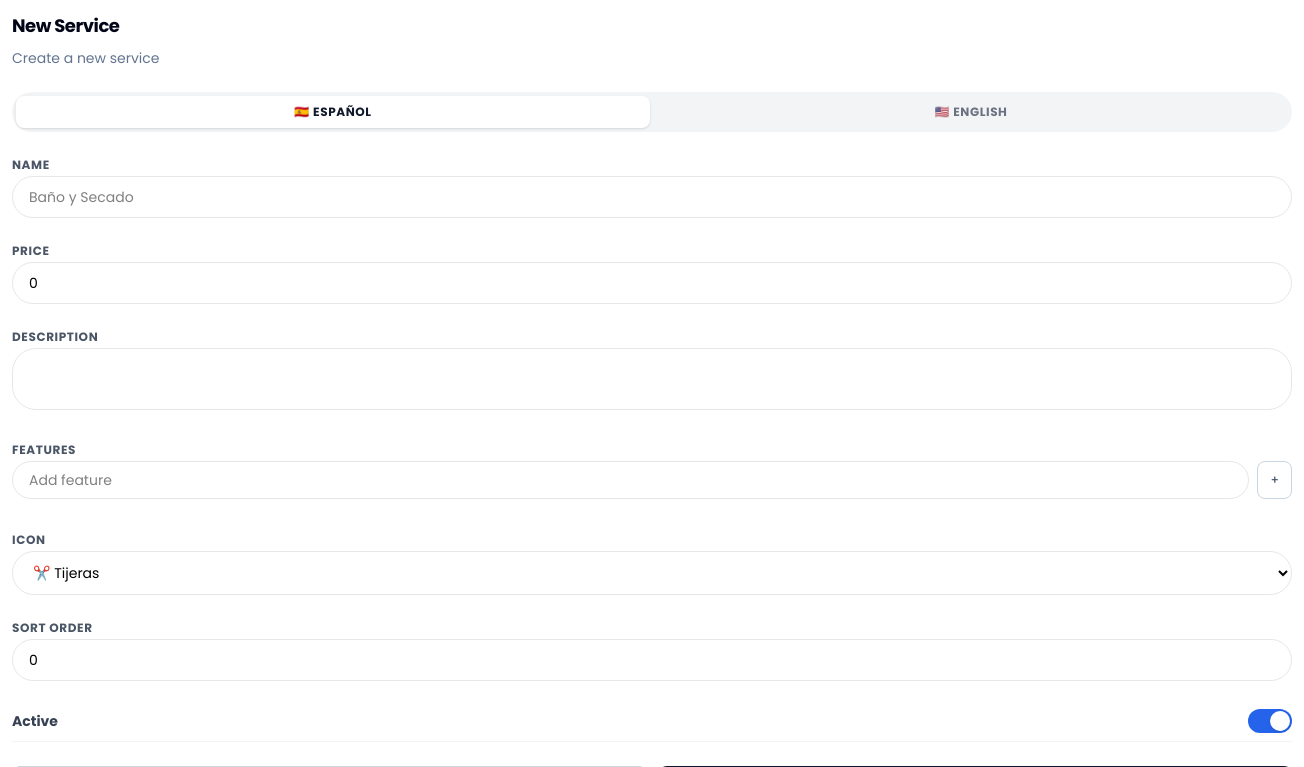
Test case: ServiceFormSidebar › adds and removes features
In the field with placeholder "Add feature": (631, 480) x1=12 y1=461 x2=1249 y2=499, type "F1"
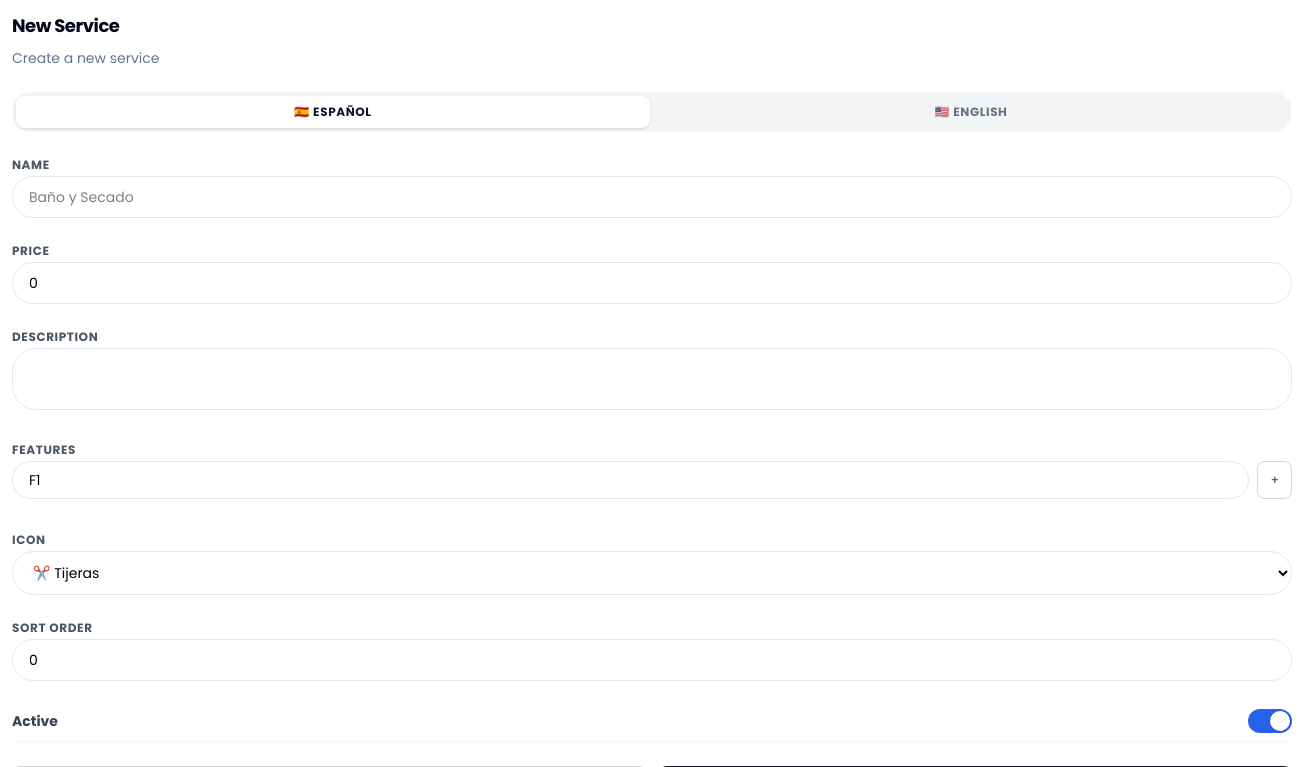
Click the button named "Add Feature": (1275, 480) x1=1257 y1=461 x2=1292 y2=499
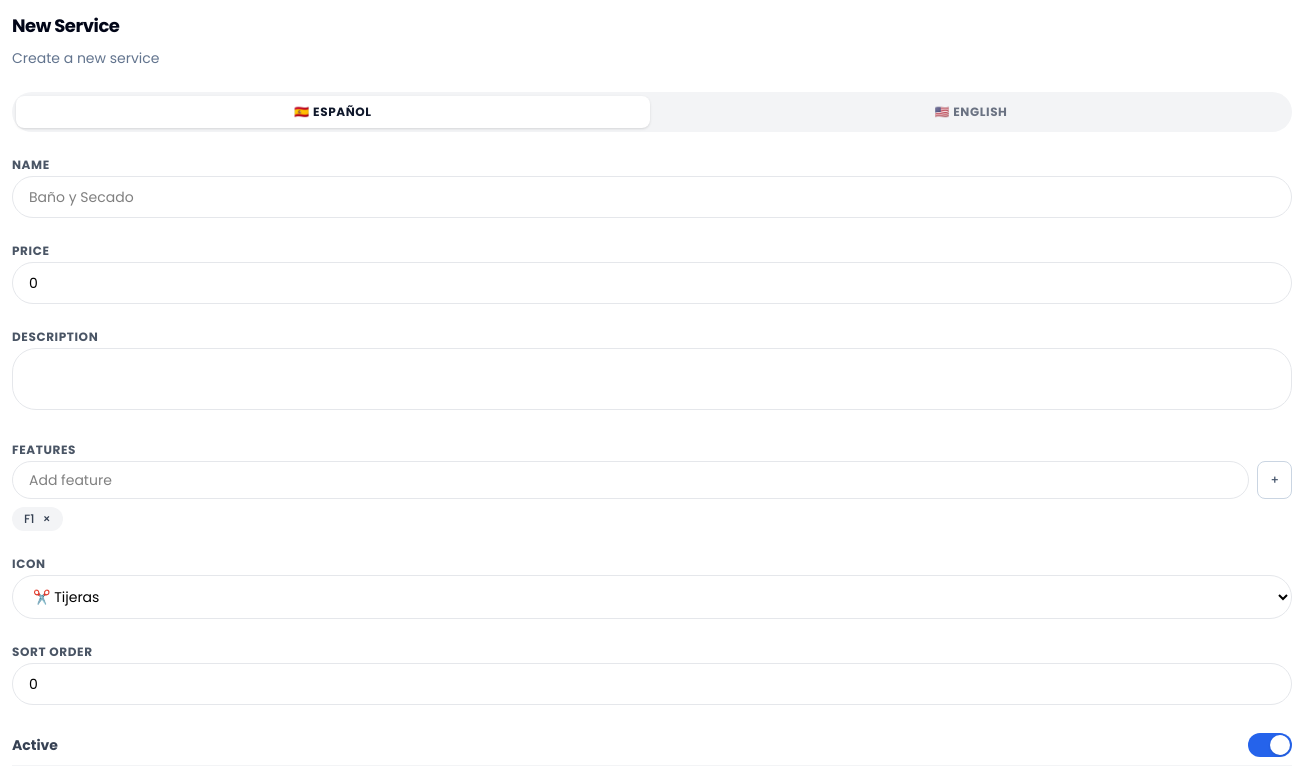
Check: the text "F1" is shown, box x1=24 y1=510 x2=34 y2=527
Click the button named "Remove Feature F1": (47, 519) x1=42 y1=511 x2=51 y2=527
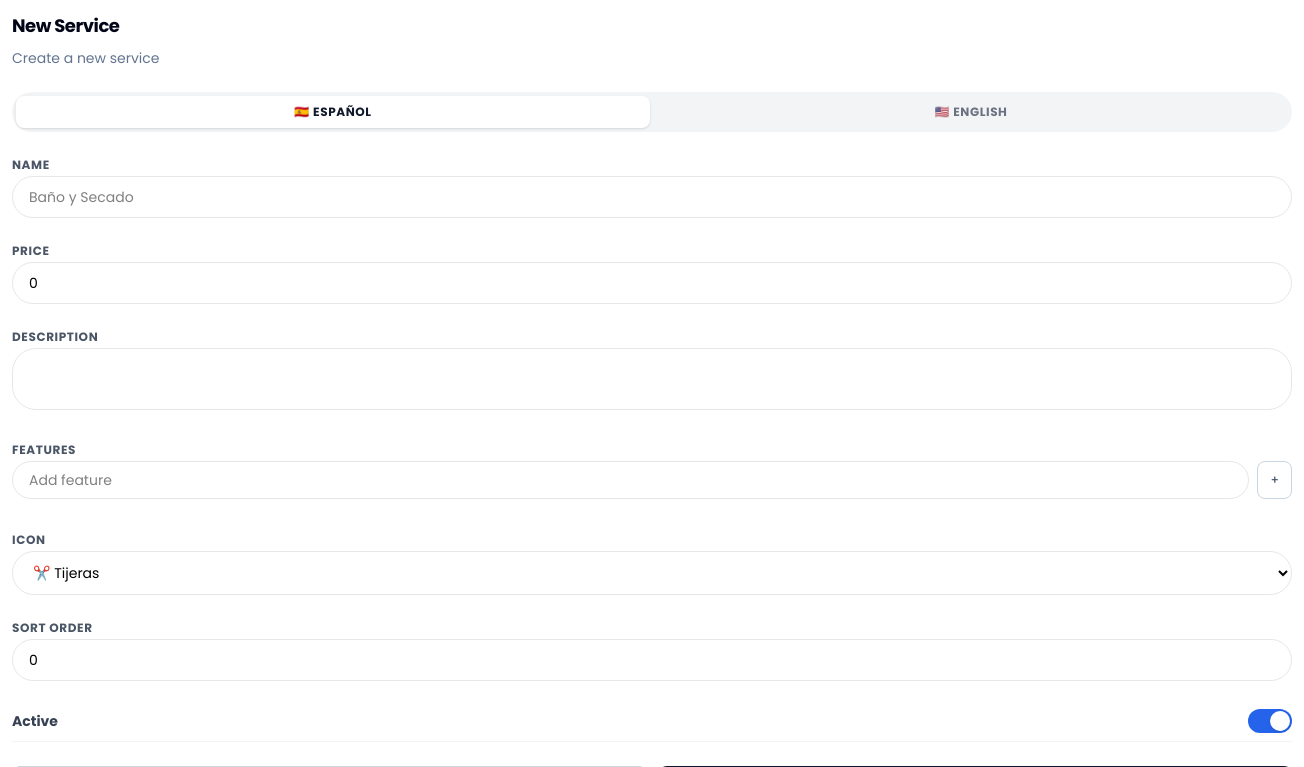
Check: the text "F1" is gone
